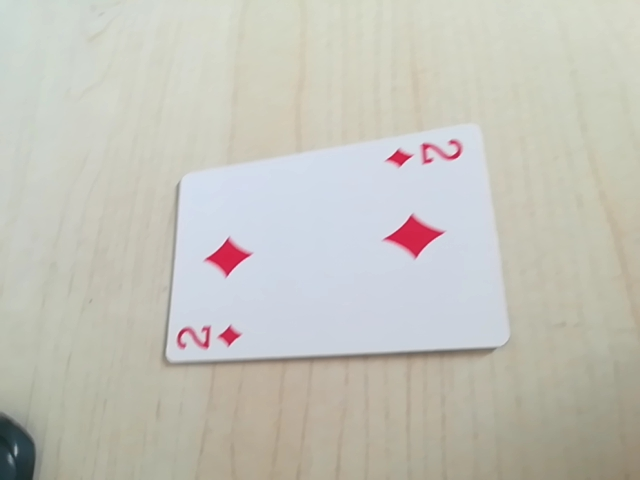fk 2: (384, 134, 471, 177), (171, 318, 246, 361)
